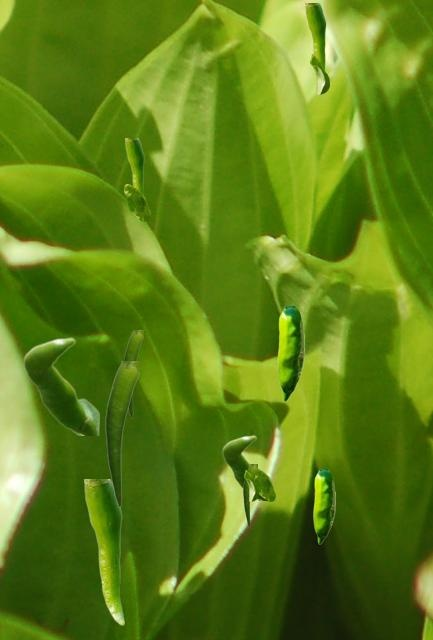green_chili: (23, 337, 98, 434), (84, 479, 123, 624), (105, 361, 138, 506), (222, 435, 264, 499), (277, 306, 303, 400), (123, 330, 142, 417), (313, 469, 334, 543), (305, 3, 326, 70), (125, 138, 144, 193), (243, 464, 256, 526)
